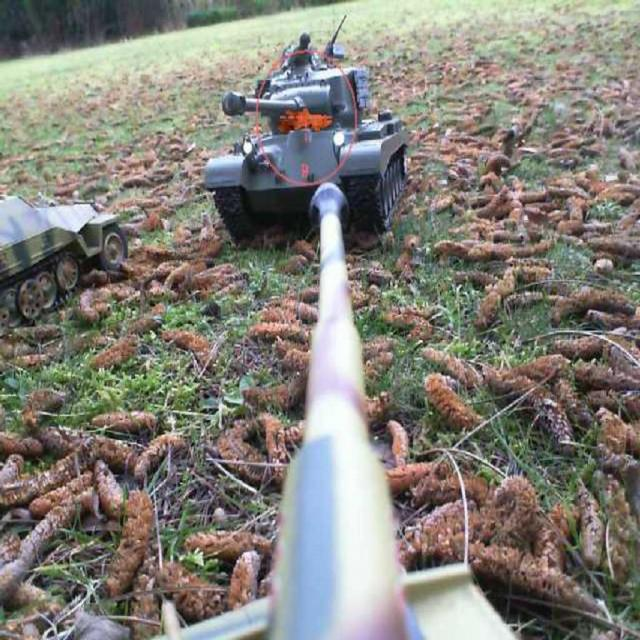tank: (137, 181, 522, 638), (202, 13, 408, 232), (0, 190, 130, 338)
